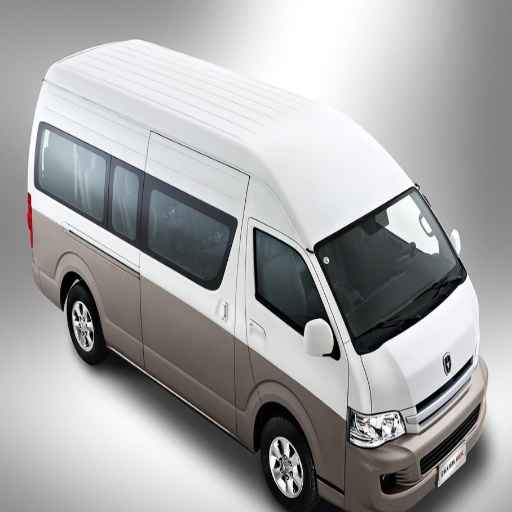front_bumper: (315, 407, 480, 511)
front_right_door: (140, 222, 243, 430), (249, 215, 343, 383)
front_right_light: (350, 411, 405, 447)
trunk: (38, 230, 73, 301)
